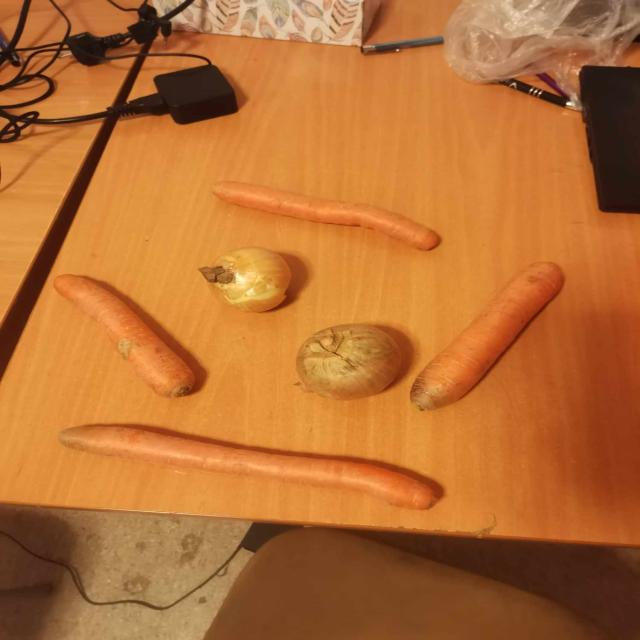carrot: (58, 426, 437, 509), (410, 262, 563, 410), (53, 275, 193, 398), (212, 181, 440, 250)
